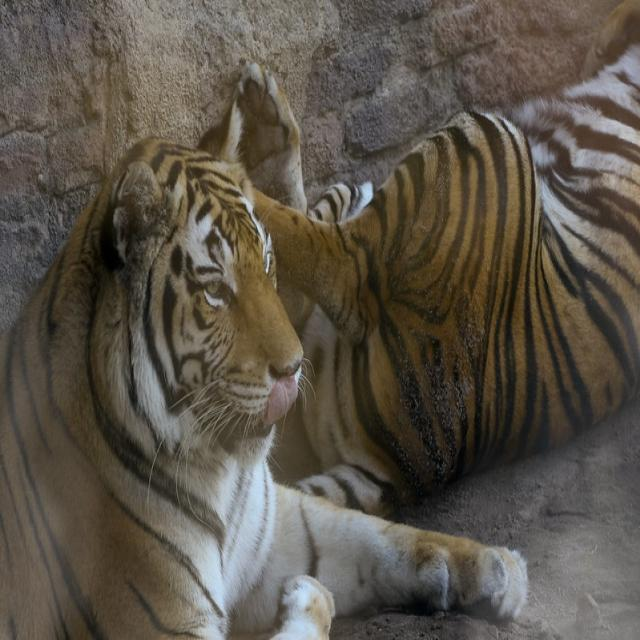Tiger: (0, 132, 529, 632), (193, 0, 639, 508)
